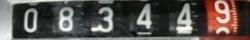digits: (96, 7, 114, 32), (135, 2, 152, 28), (58, 6, 74, 31), (213, 0, 230, 23), (22, 8, 38, 32), (176, 3, 192, 25)
